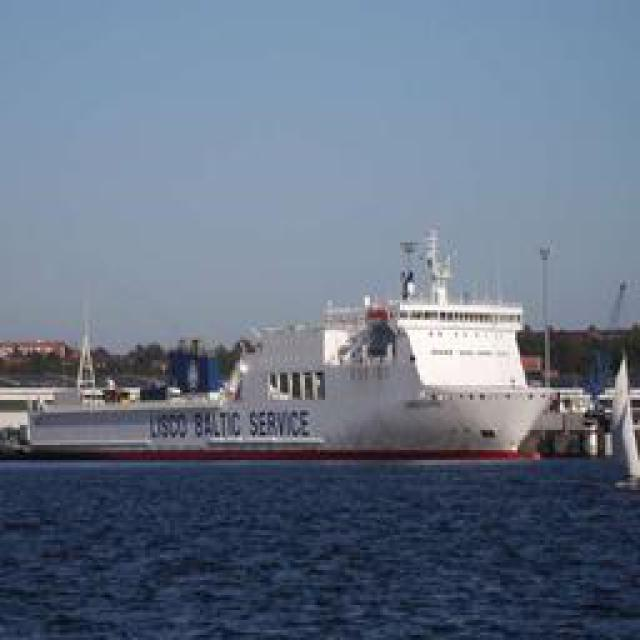Ship: (24, 282, 579, 465)
